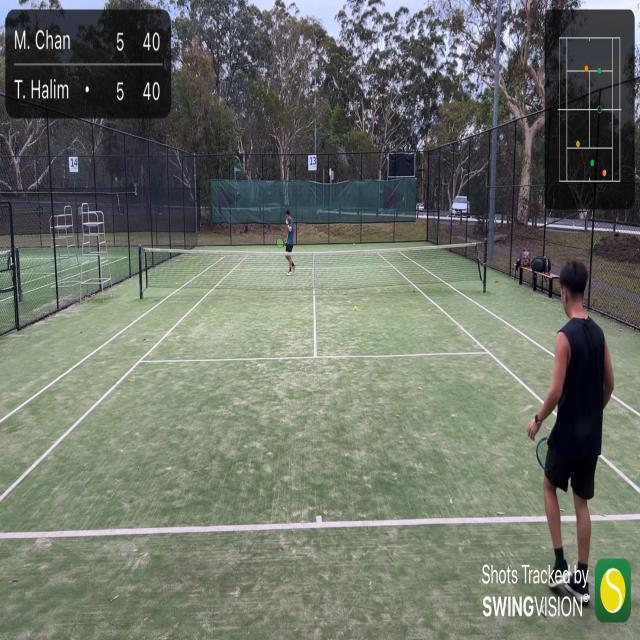ball: (354, 305, 358, 312), (175, 282, 178, 287), (353, 242, 355, 245)
